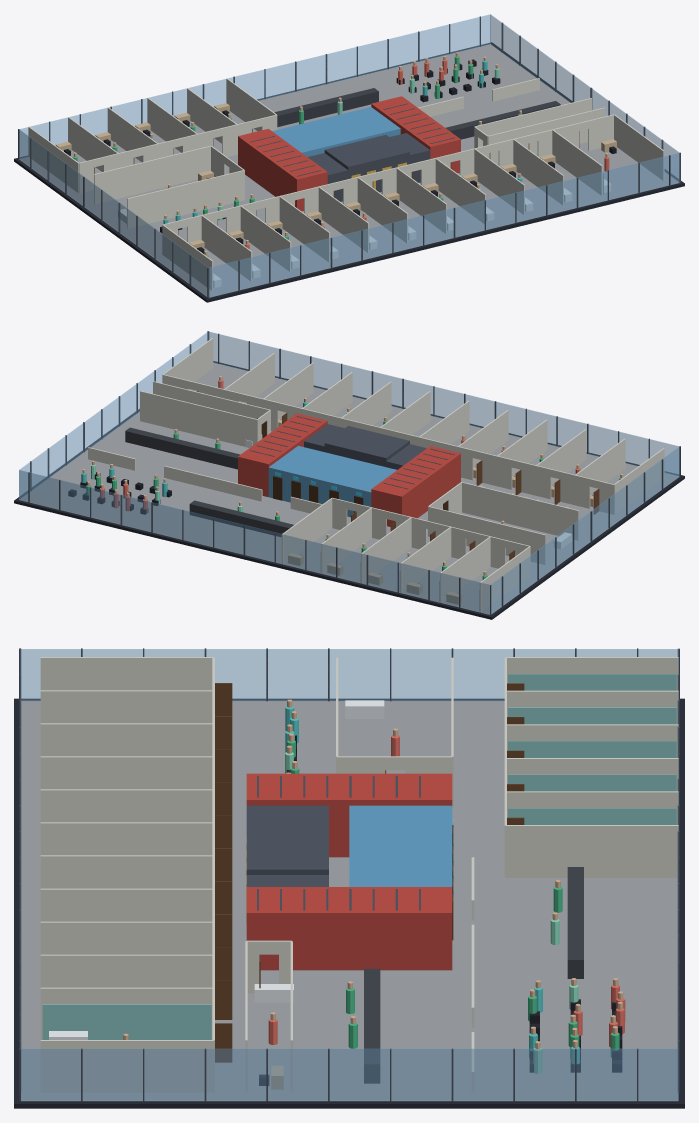
The picture shows the model from 3 angles, top to bottom: view 1: azimuth 30°, elevation 25°; view 2: azimuth 150°, elevation 25°; view 3: azimuth 270°, elevation 25°; orthographic projection. The views are drawn at different scales.
Parts seen in each view (by area): view 1: L6_wall, L6_glass, L6_floor_tile, L6_core, L6_stair, L6_slab, L6_wash, L6_counter, L6_desk, L6_chair, L6_medical, L6_person_skin (+1 smaller); view 2: L6_wall, L6_glass, L6_floor_tile, L6_stair, L6_core, L6_wash, L6_slab, L6_counter, L6_door, L6_desk, L6_chair, L6_door_closed (+2 smaller); view 3: L6_floor_tile, L6_wall, L6_glass, L6_stair, L6_curtain, L6_core, L6_slab, L6_wash, L6_door, L6_counter, L6_medical, L6_person_skin (+5 smaller).
Part boxes in pixels (left/top/right/bottom): L6_wall: left=28, top=78, right=664, bottom=290; L6_glass: left=19, top=14, right=679, bottom=296; L6_floor_tile: left=19, top=44, right=679, bottom=297; L6_core: left=18, top=16, right=680, bottom=298; L6_stair: left=238, top=96, right=460, bottom=211; L6_slab: left=14, top=42, right=684, bottom=302; L6_wash: left=272, top=107, right=400, bottom=156; L6_counter: left=274, top=88, right=560, bottom=139; L6_desk: left=55, top=103, right=616, bottom=249; L6_chair: left=64, top=59, right=616, bottom=253; L6_medical: left=118, top=179, right=611, bottom=287; L6_person_skin: left=73, top=52, right=608, bottom=255; L6_wall: left=88, top=338, right=664, bottom=612; L6_glass: left=19, top=331, right=679, bottom=614; L6_floor_tile: left=19, top=362, right=679, bottom=614; L6_stair: left=238, top=413, right=460, bottom=526; L6_core: left=28, top=331, right=680, bottom=615; L6_wash: left=268, top=445, right=396, bottom=517; L6_slab: left=14, top=361, right=684, bottom=619; L6_counter: left=125, top=427, right=293, bottom=536; L6_door: left=197, top=391, right=599, bottom=560; L6_desk: left=278, top=419, right=593, bottom=604; L6_chair: left=68, top=419, right=592, bottom=584; L6_door_closed: left=273, top=476, right=363, bottom=512; L6_floor_tile: left=21, top=700, right=678, bottom=1101; L6_wall: left=40, top=657, right=678, bottom=1092; L6_glass: left=20, top=649, right=678, bottom=1100; L6_stair: left=246, top=773, right=452, bottom=970; L6_curtain: left=42, top=674, right=676, bottom=1039; L6_core: left=19, top=648, right=679, bottom=1101; L6_slab: left=14, top=698, right=684, bottom=1108; L6_wash: left=349, top=805, right=452, bottom=886; L6_door: left=215, top=683, right=524, bottom=1062; L6_counter: left=364, top=867, right=583, bottom=1083; L6_medical: left=49, top=700, right=384, bottom=1039; L6_person_skin: left=123, top=699, right=623, bottom=1049.
Bounding box in the file's own units: 46.6 × 3.37 × 32.6.
